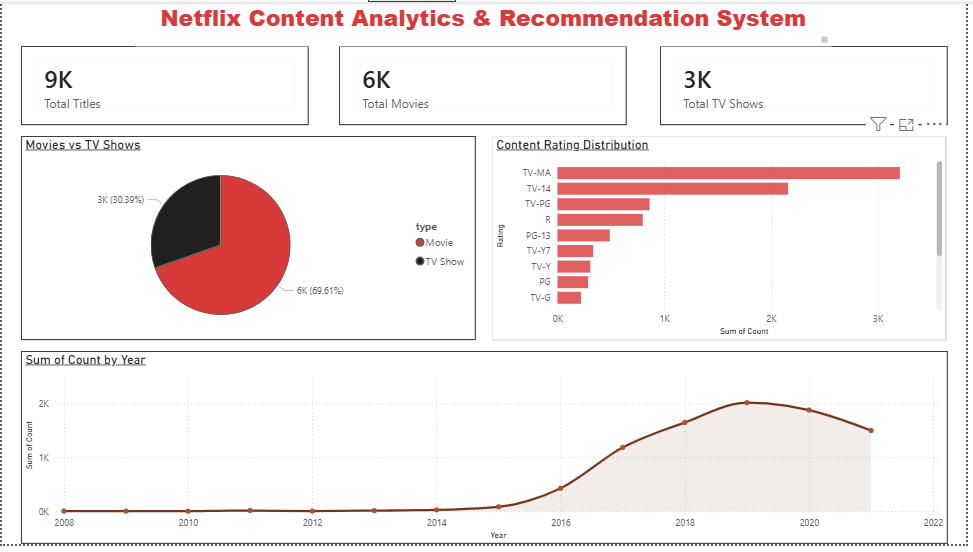

What the dashboard file says about the page in this screenshot:
{"tool":"powerbi","page":{"name":"Page 1","canvas":[1280,720],"ordinal":0},"visuals":[{"type":"cardVisual","fields":{"Data":["netflix_cleaned.Total Titles"]},"box":[24.9,58.5,382,105.4],"z":0},{"type":"cardVisual","fields":{"Data":["netflix_cleaned.Total Movies"]},"box":[447.8,58.5,382,105.4],"z":1000},{"type":"cardVisual","fields":{"Data":["netflix_cleaned.Total TV Shows"]},"box":[873.7,58.5,382,105.4],"z":2000},{"type":"pieChart","title":"Movies vs TV Shows","fields":{"Category":["netflix_cleaned.type"],"Y":["netflix_cleaned.Total Titles"]},"box":[24.9,178.5,604.4,270.7],"z":3000},{"type":"lineChart","fields":{"Category":["yearly_content.Year"],"Y":["Sum(yearly_content.Count)"]},"box":[24.9,463.9,1230.7,256.1],"z":4000},{"type":"barChart","title":"Content Rating Distribution","fields":{"Category":["rating_counts.Rating"],"Y":["Sum(rating_counts.Count)"]},"box":[651.2,178.5,604.4,270.7],"z":5000},{"type":"textbox","title":"Netflix Content Analytics & Recommendation System","box":[177.1,0,924.9,58.5],"z":6000}]}

Visuals, with their boxes in screenshot pixels (x1, y1, x2, y2), scaled from the page's 1280x720 canvas onto the 973x552 screenshot:
cardVisual - netflix_cleaned.Total Titles: box=[19, 45, 309, 126]
cardVisual - netflix_cleaned.Total Movies: box=[340, 45, 631, 126]
cardVisual - netflix_cleaned.Total TV Shows: box=[664, 45, 955, 126]
"Movies vs TV Shows" pieChart: box=[19, 137, 478, 344]
lineChart - yearly_content.Year x Sum(yearly_content.Count): box=[19, 356, 954, 551]
"Content Rating Distribution" barChart: box=[495, 137, 954, 344]
"Netflix Content Analytics & Recommendation System" textbox: box=[135, 0, 838, 45]
